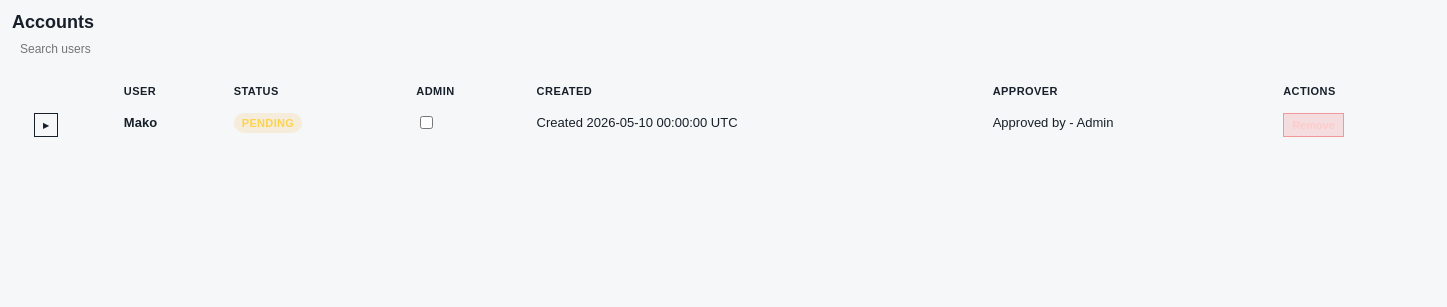
Test: AdminAccountsView › renders account management in the dark admin layout
Expected: the heading "Accounts" is shown, [12,12,94,32]
Expected: the text "Mako" is shown, [124,115,157,130]
Click the button named "Show server permissions for Mako". click: click(46, 125)
box: [34,113,58,137]
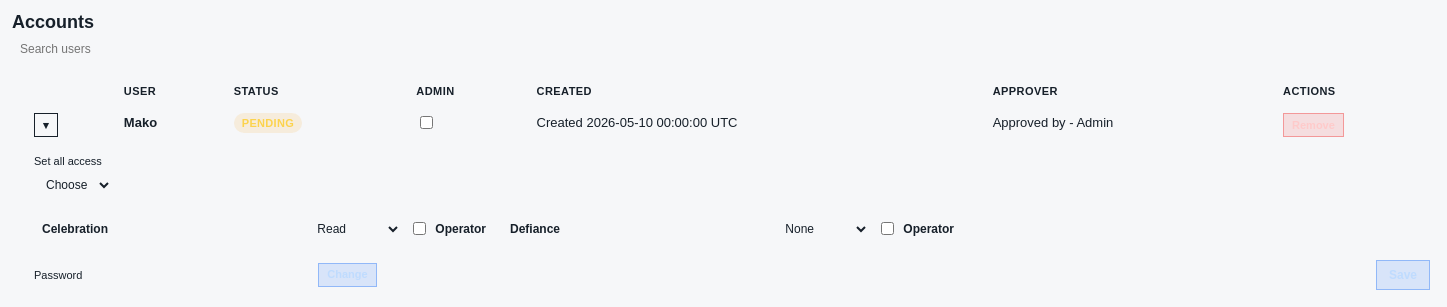
Result: the element named "Server permissions for Mako" is shown at [34,155,954,244]
Result: the dropdown named "Set all server access for Mako" is shown at [34,170,112,200]
Result: the text "Celebration" is shown at [42,222,108,236]
